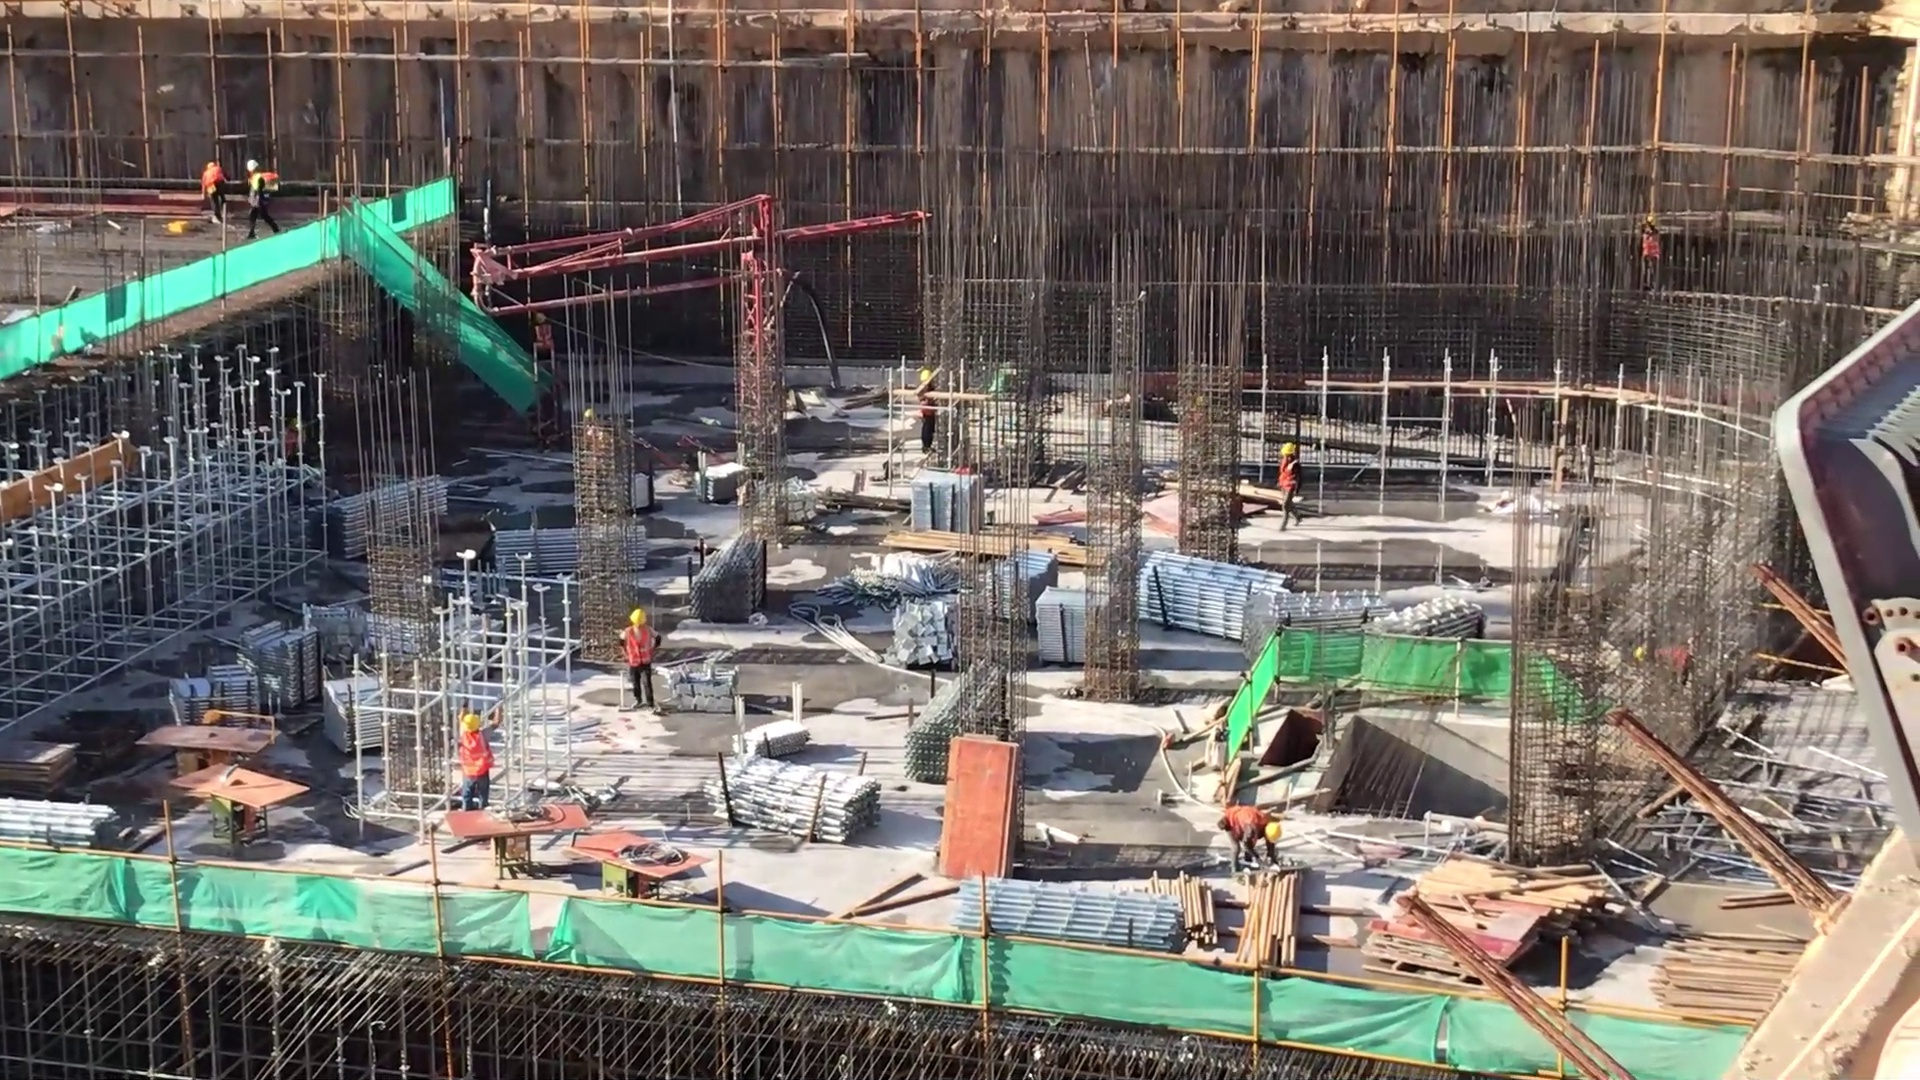board: (1355, 891, 1560, 976), (937, 723, 1026, 884), (1, 735, 86, 792)
cutter: (162, 757, 315, 854), (565, 823, 707, 913), (444, 797, 585, 876), (138, 718, 283, 787)
helmet: (1262, 818, 1283, 849), (463, 709, 485, 738), (630, 604, 650, 626), (917, 367, 939, 385), (533, 310, 549, 330), (247, 158, 261, 176), (1280, 443, 1298, 456)
person: (607, 611, 666, 728), (454, 700, 497, 841), (1217, 789, 1281, 885), (917, 364, 952, 474), (244, 150, 280, 253), (1274, 437, 1310, 538), (199, 145, 232, 248), (526, 304, 562, 398)
scaffold: (924, 878, 1221, 955), (1359, 595, 1505, 711), (1245, 578, 1391, 684), (1130, 553, 1302, 643), (317, 465, 454, 563), (687, 516, 785, 626), (1, 791, 138, 869), (493, 525, 660, 580), (242, 613, 328, 711), (978, 546, 1067, 636), (321, 665, 408, 753)
vest: (1214, 800, 1264, 851), (455, 732, 500, 782), (620, 622, 659, 672), (1277, 452, 1302, 501), (532, 324, 555, 357), (249, 172, 269, 205), (201, 165, 223, 191)
wood: (1641, 927, 1822, 1055)
